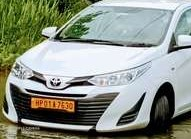HP01A7630: (30, 97, 74, 111)
